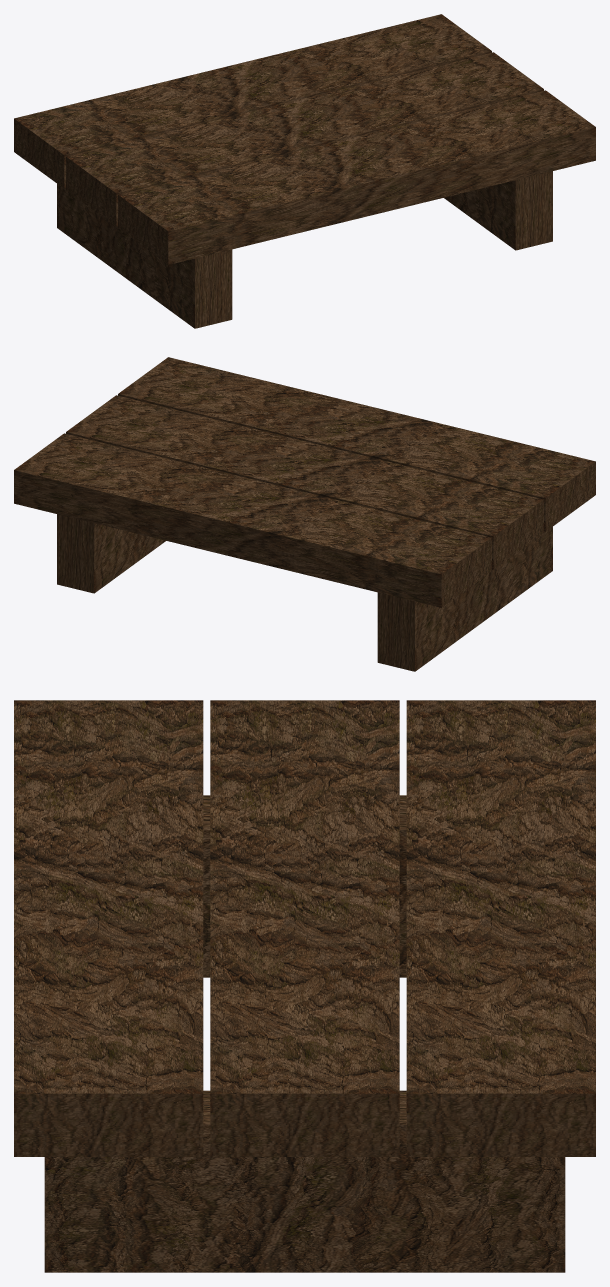
File: prop_piri.glb
The picture shows the model from 3 angles, top to bottom: view 1: azimuth 30°, elevation 25°; view 2: azimuth 150°, elevation 25°; view 3: azimuth 270°, elevation 25°; orthographic projection. The views are drawn at different scales.
Parts seen in each view (by area): view 1: prop_piri; view 2: prop_piri; view 3: prop_piri.
Boxes of the visible parts, x1,y1,x2,y2 form: prop_piri: (14, 14, 595, 328); prop_piri: (14, 357, 595, 671); prop_piri: (14, 700, 595, 1272).
Bounding box in the file's own units: 0.4 × 0.1 × 0.25.
1 material, 1 textured.
